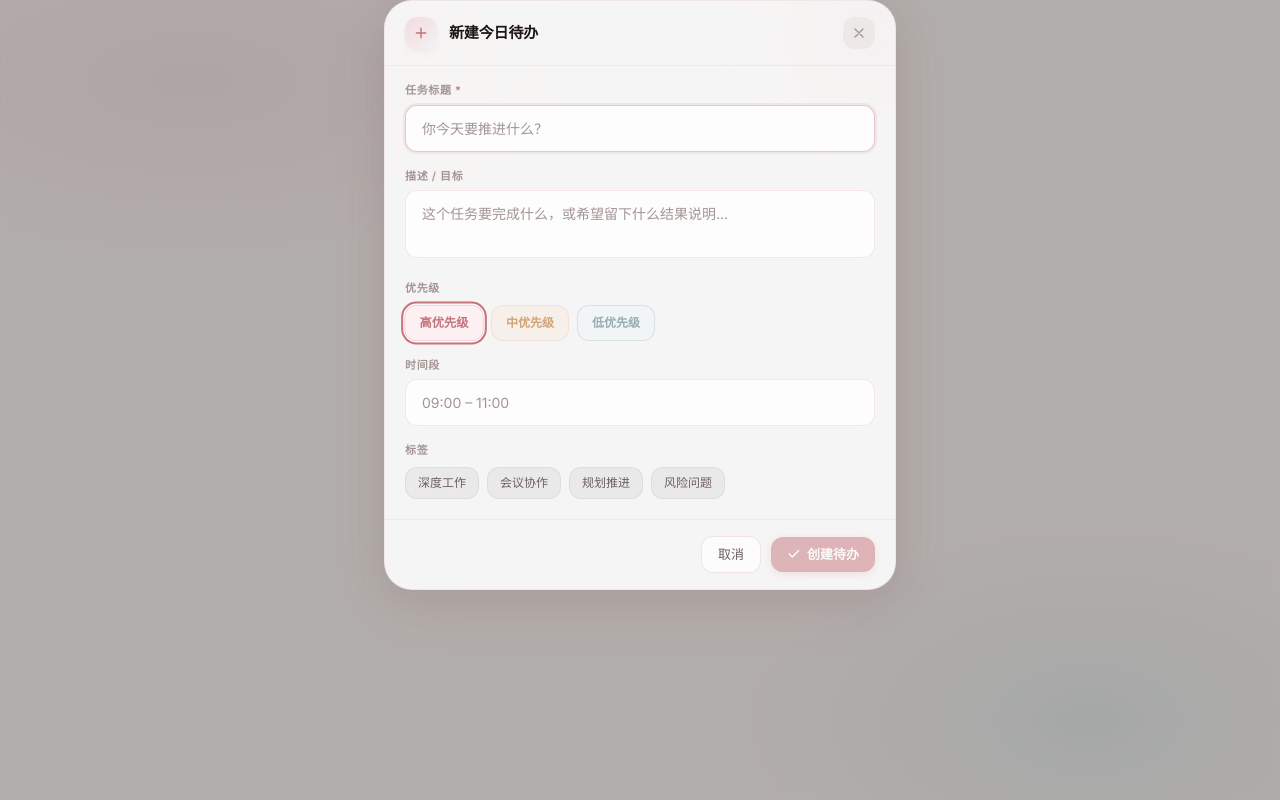
Test case: failed submit › shows fallback message for non-Error rejections
Type "写周报" into the field with placeholder "你今天要推进什么？" at x=640, y=128, box [405,104,875,152]
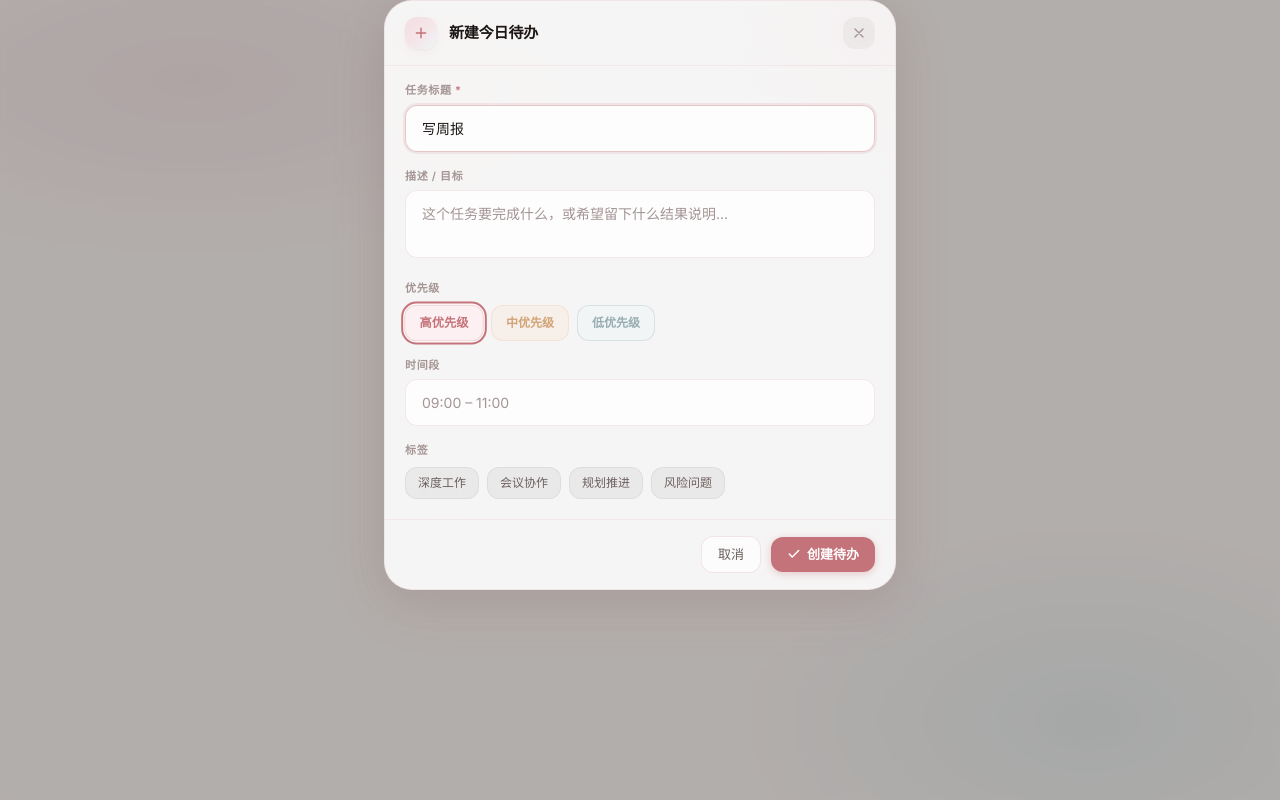
Click the button "创建待办" at x=823, y=554, box [771,536,875,572]
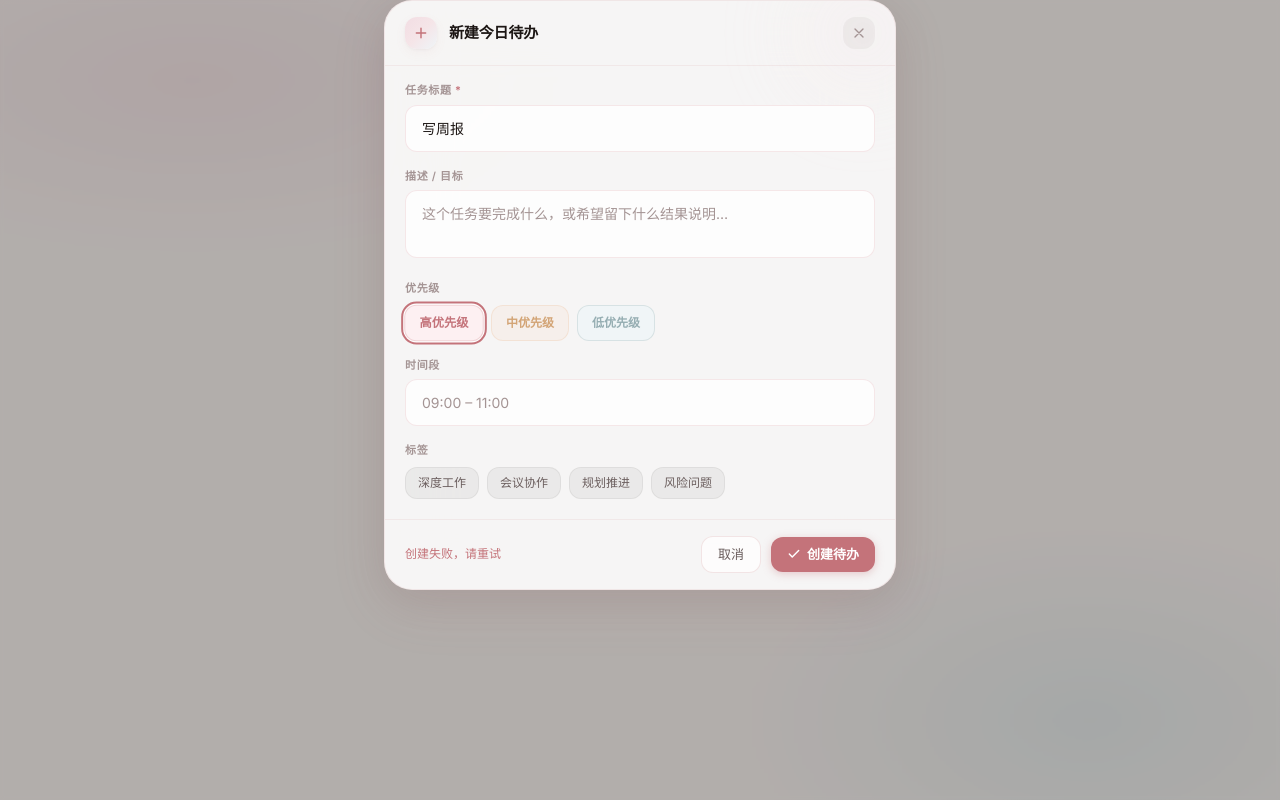
Now the text "创建失败，请重试" is shown, box [405,545,501,563]
